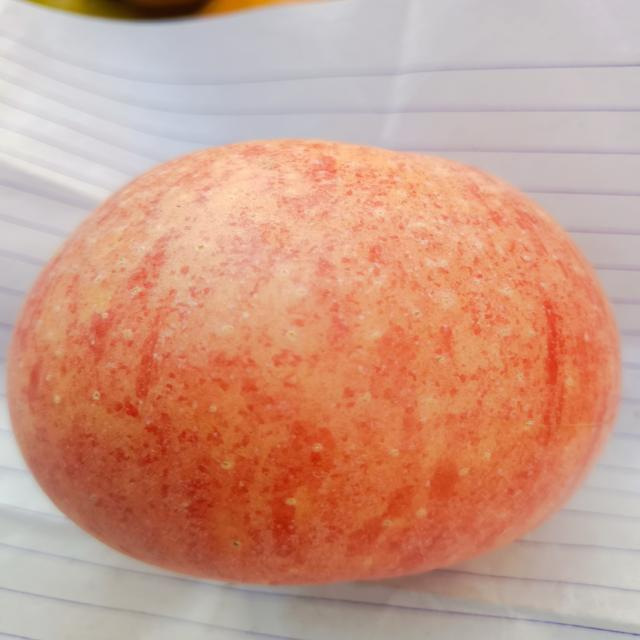Fresh Apple: (1, 136, 620, 588)
